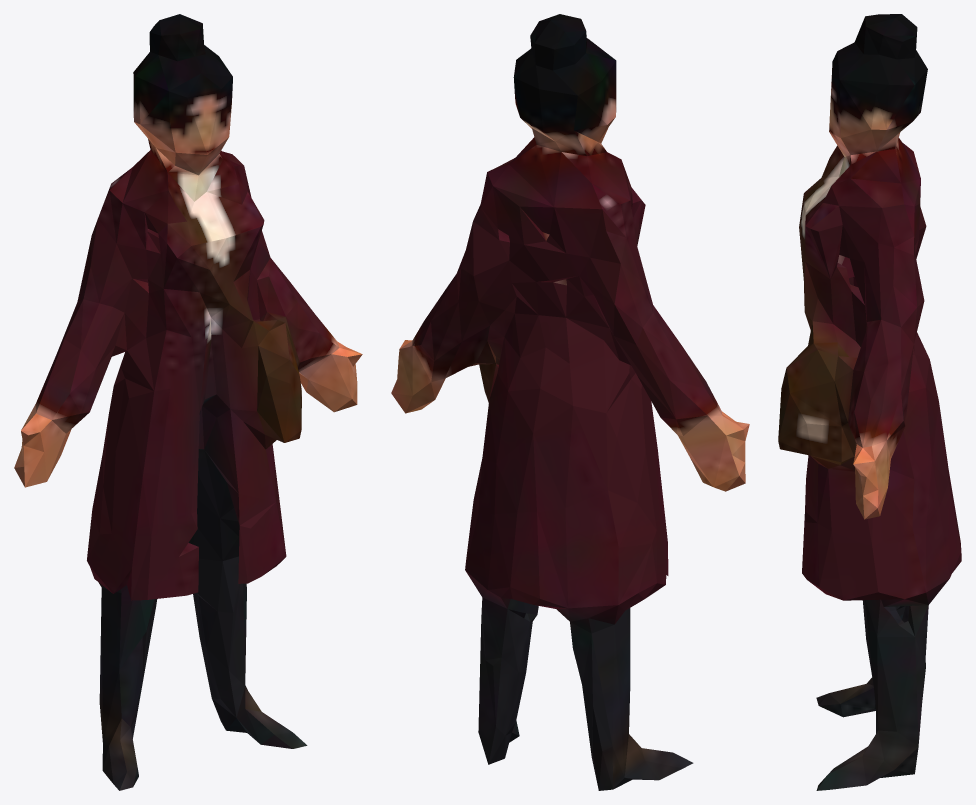
File: habitant-loin.glb
3 renders of one model, left to right at view 1: azimuth 30°, elevation 25°; view 2: azimuth 150°, elevation 25°; view 3: azimuth 270°, elevation 25°, orthographic. The views are drawn at different scales.
Visible parts, largest first — view 1: habitant; view 2: habitant; view 3: habitant.
Part boxes in pixels (left/top/right/bottom): habitant: left=14, top=14, right=362, bottom=790; habitant: left=391, top=14, right=749, bottom=790; habitant: left=778, top=14, right=961, bottom=790.
Bounding box in the file's own units: 0.4891 × 1.01 × 0.2288.
Materials: 1 (1 with a texture image).
